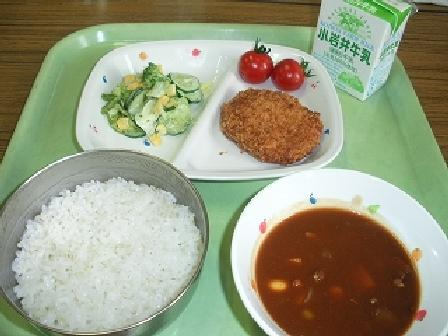Cherry tomatoes: (234, 38, 312, 91)
Milk: (310, 2, 417, 90)
Rice: (0, 148, 205, 325)
Salad: (101, 56, 202, 146)
cutlet: (215, 92, 329, 177)
vegetable soup: (237, 166, 434, 332)
